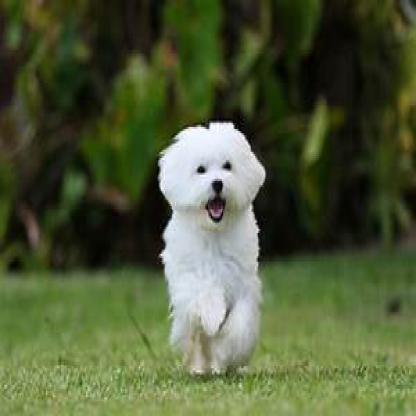dog: (151, 125, 262, 366)
